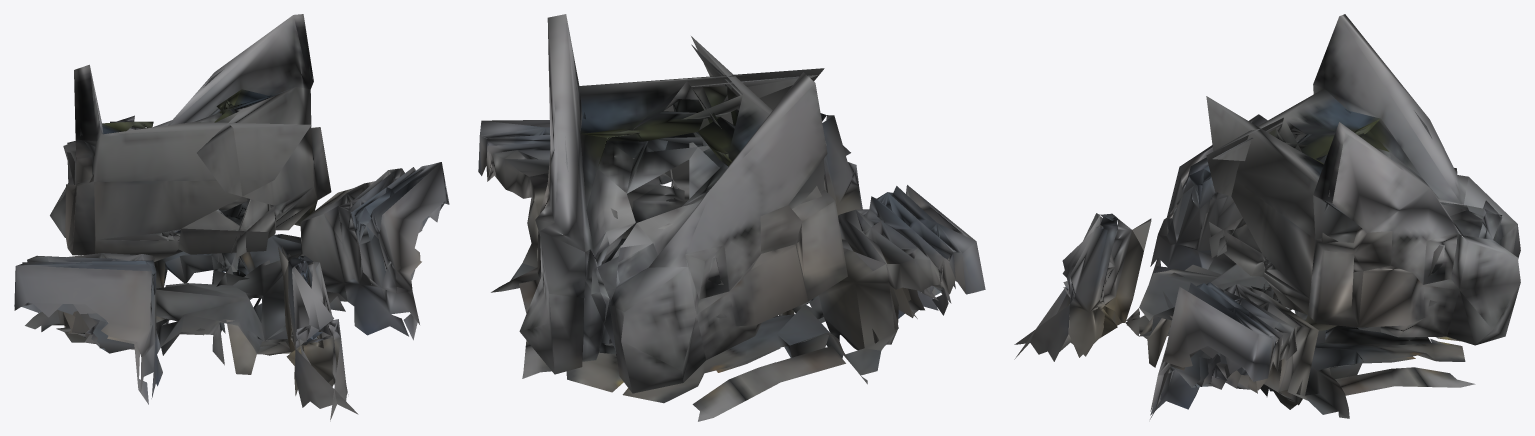
File: tankblock_head_001.glb
3 views of the same model, side by side, from view 1: azimuth 30°, elevation 25°; view 2: azimuth 150°, elevation 25°; view 3: azimuth 270°, elevation 25° (orthographic). The views are drawn at different scales.
Parts seen in each view (by area): view 1: W_head; view 2: W_head; view 3: W_head.
Part boxes in pixels (x1,y1,x2,y2): W_head: [14, 14, 449, 421]; W_head: [478, 14, 985, 421]; W_head: [1014, 14, 1520, 419].
Size of the model in its own units: 0.6417 by 0.38 by 0.6095.
1 material, 1 textured.
